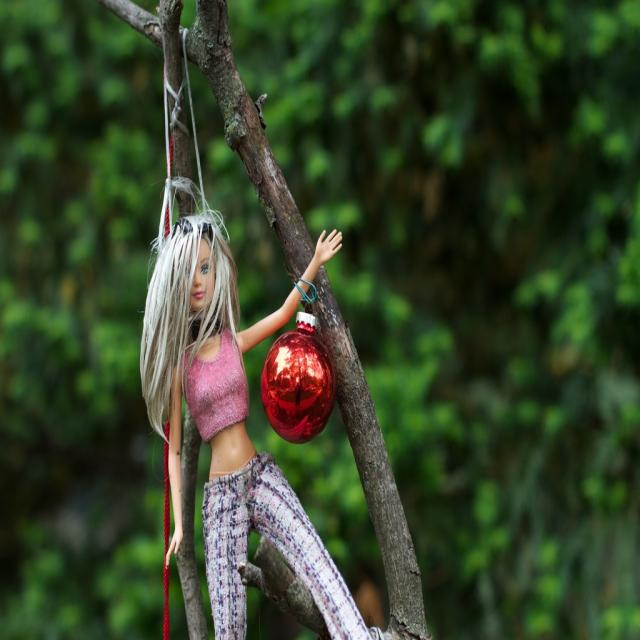Ball: (260, 328, 335, 446)
